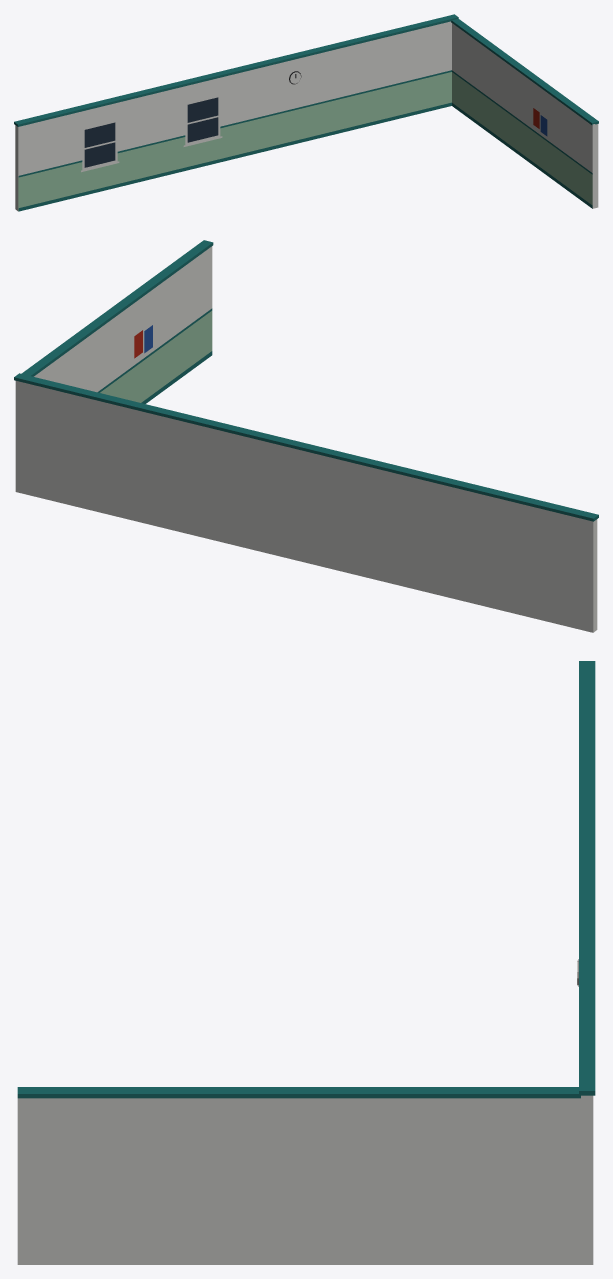
Rendered from bld_room_ward.4dc61bf0cf52.glb.
3 views of the same model, one above another, from view 1: azimuth 30°, elevation 25°; view 2: azimuth 150°, elevation 25°; view 3: azimuth 270°, elevation 25° (orthographic). The views are drawn at different scales.
Visible parts, largest first — view 1: body; view 2: body; view 3: body.
Boxes of the visible parts, <box> form: body: <box>14,14,598,211</box>; body: <box>14,240,598,632</box>; body: <box>17,661,595,1264</box>.
Size of the model in its own units: 16.26 by 3.08 by 9.23.
